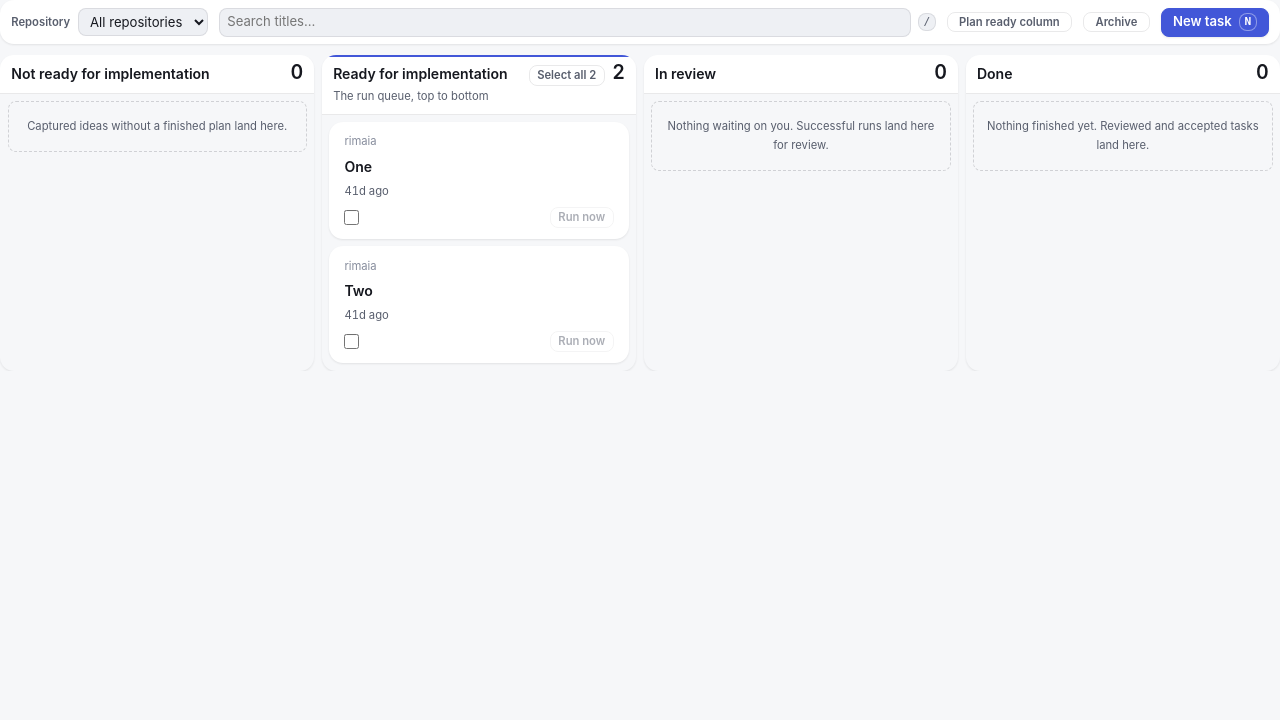
Test: Board › still opens a card on a plain click while other cards are picked
This screenshot has width=1280, height=720.
Click the checkbox named "Select \"One\"" at (352,217), box [344,210,359,225]
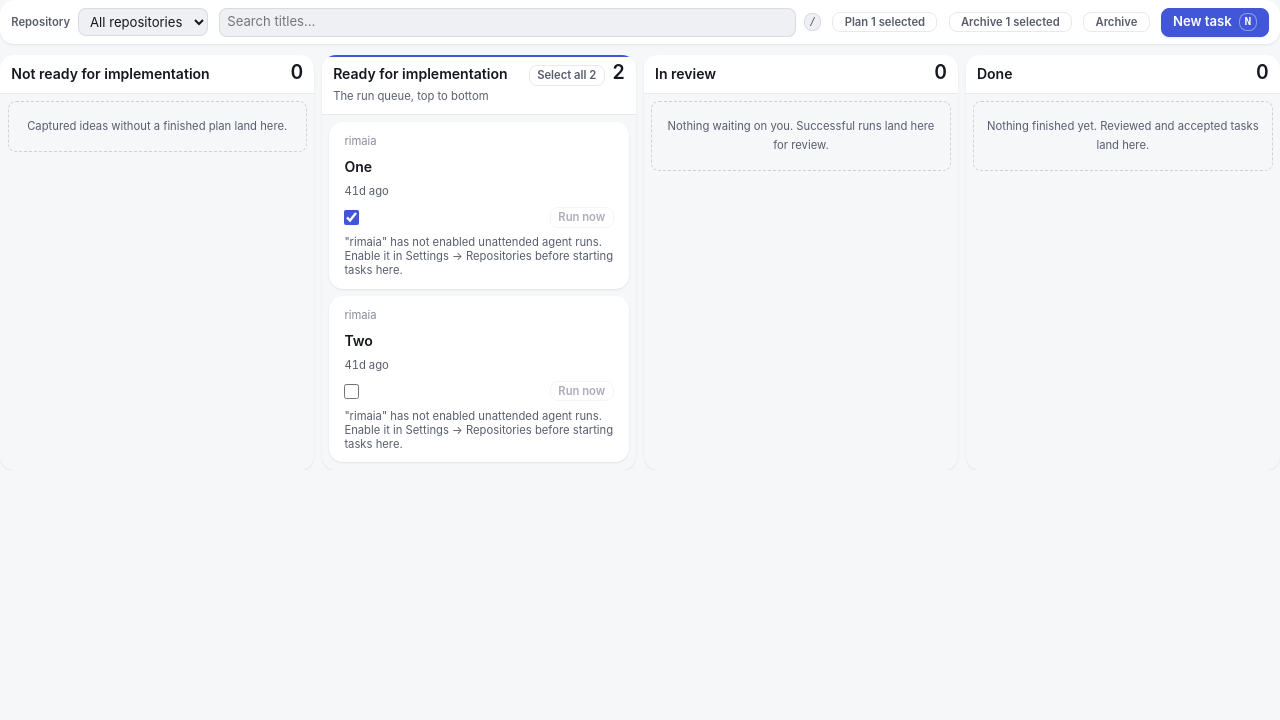
Click the button "Two" at (361,315), box [329,296,629,462]
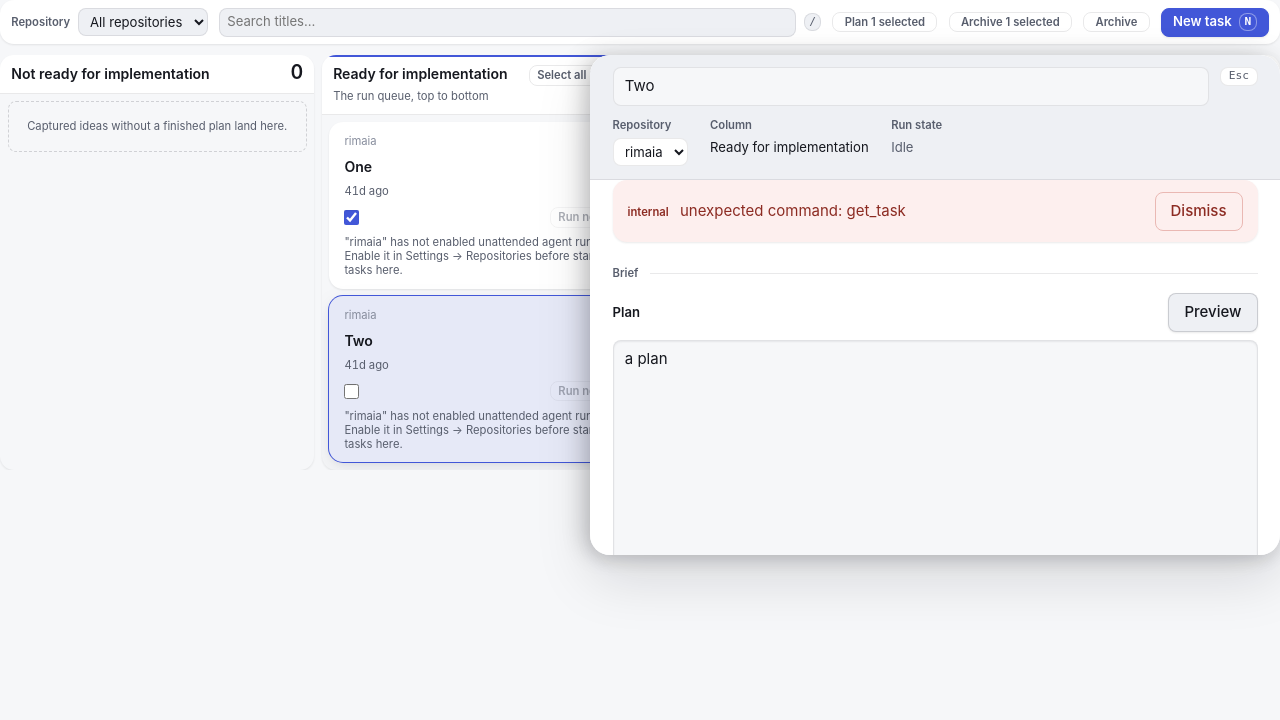
expect the button "Archive 1 selected" is shown: met, box [949,12,1072,32]
expect the element named "Task: Two" is shown: met, box [590,55,1279,555]
